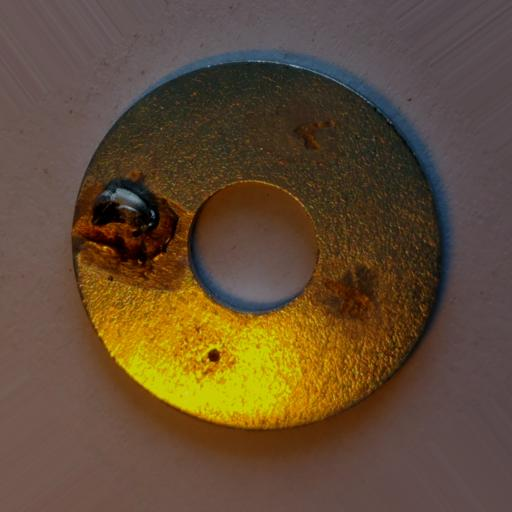excess_material: (75, 176, 179, 281)
